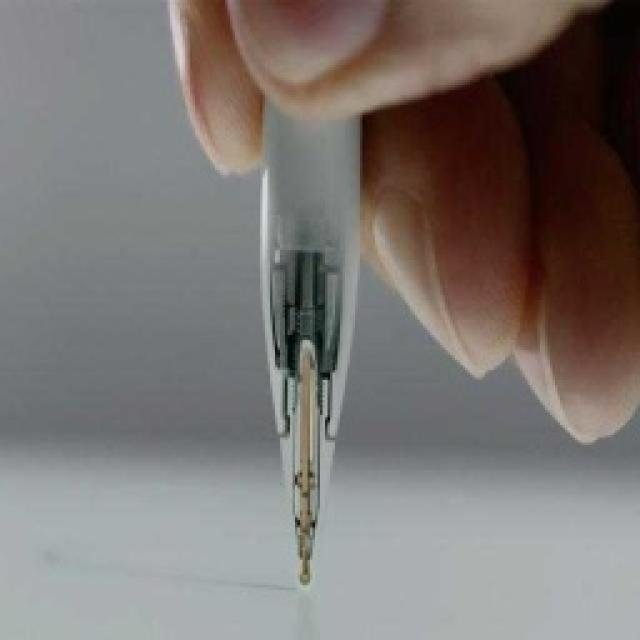pencil: (252, 95, 368, 587)
